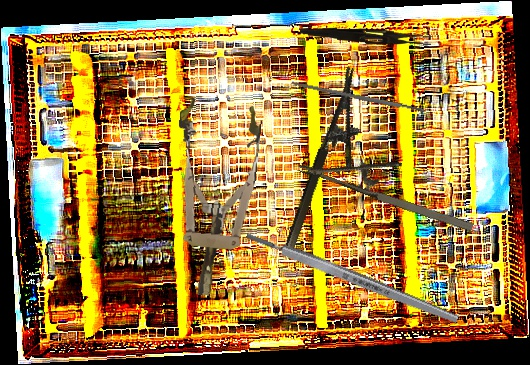Dressing Forceps: (299, 26, 432, 46)
Needle Holder: (297, 129, 485, 237), (282, 66, 384, 258)
Scalpel Handle: (244, 228, 460, 327), (290, 80, 425, 114)
Speculum: (161, 96, 264, 300)
